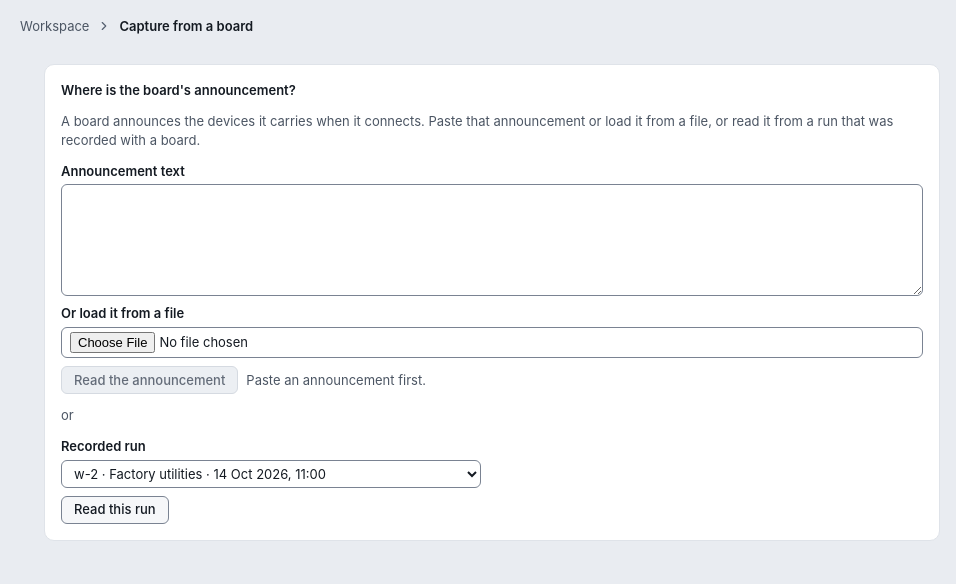
Test case: reading a recorded run › reads the newest run when none was picked
Click the button "Read this run" at (115, 510), box [61,496,169,524]
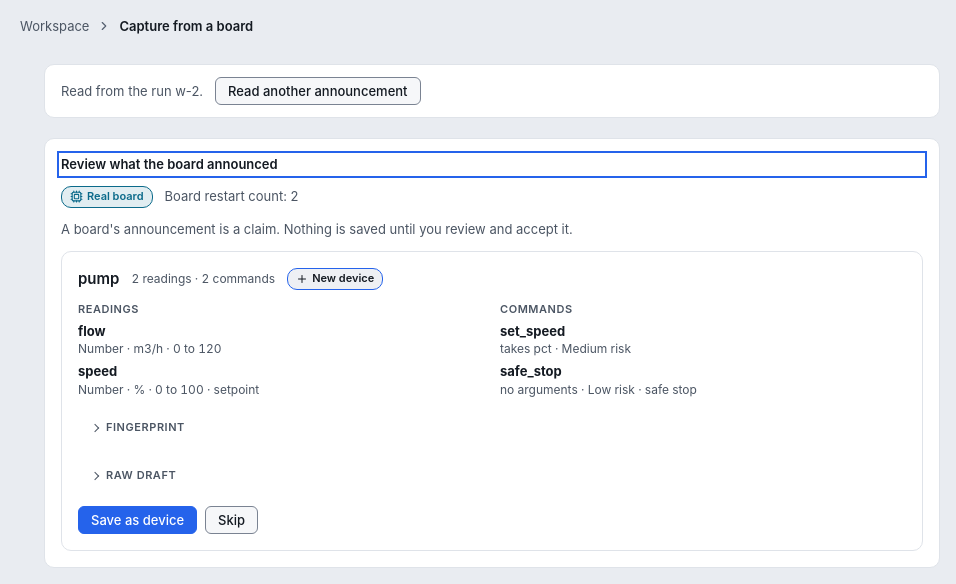
Now the heading "Review what the board announced" is shown, box [61,156,278,172]
